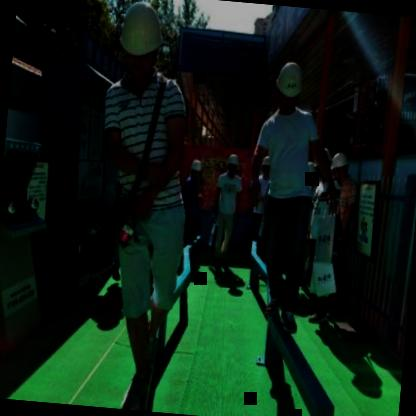helmet: (115, 0, 169, 85), (272, 57, 306, 113), (329, 152, 351, 182), (225, 150, 244, 178), (187, 156, 205, 181), (259, 152, 274, 180)
